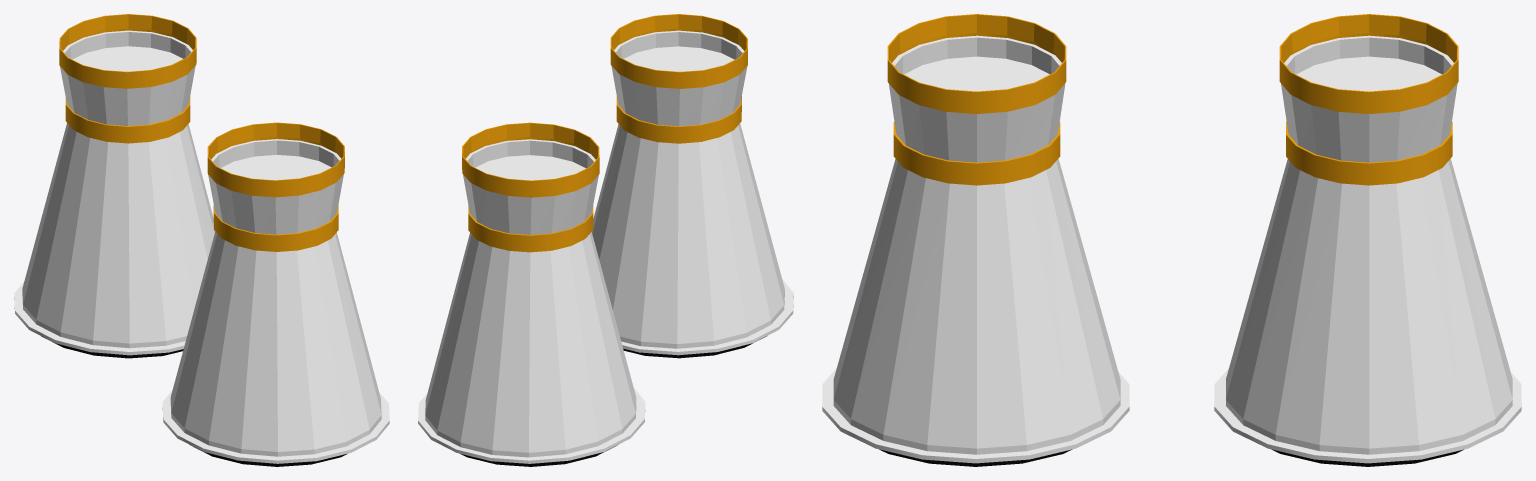
The model's file is Atom Plant 3.FBX.
The picture shows the model from 3 angles, left to right: view 1: azimuth 30°, elevation 25°; view 2: azimuth 150°, elevation 25°; view 3: azimuth 270°, elevation 25°; orthographic projection. The views are drawn at different scales.
Parts seen in each view (by area): view 1: Cylinder018; view 2: Cylinder018; view 3: Cylinder018.
Boxes of the visible parts, x1,y1,x2,y2 form: Cylinder018: (14, 14, 389, 466); Cylinder018: (418, 14, 793, 466); Cylinder018: (822, 14, 1521, 466).
Size of the model in its own units: 44.4 by 58.39 by 103.
